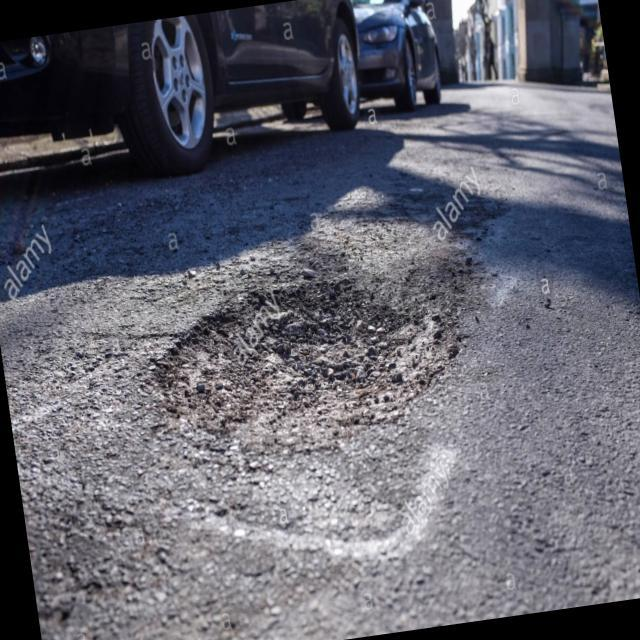Pothole: (146, 244, 450, 486)
